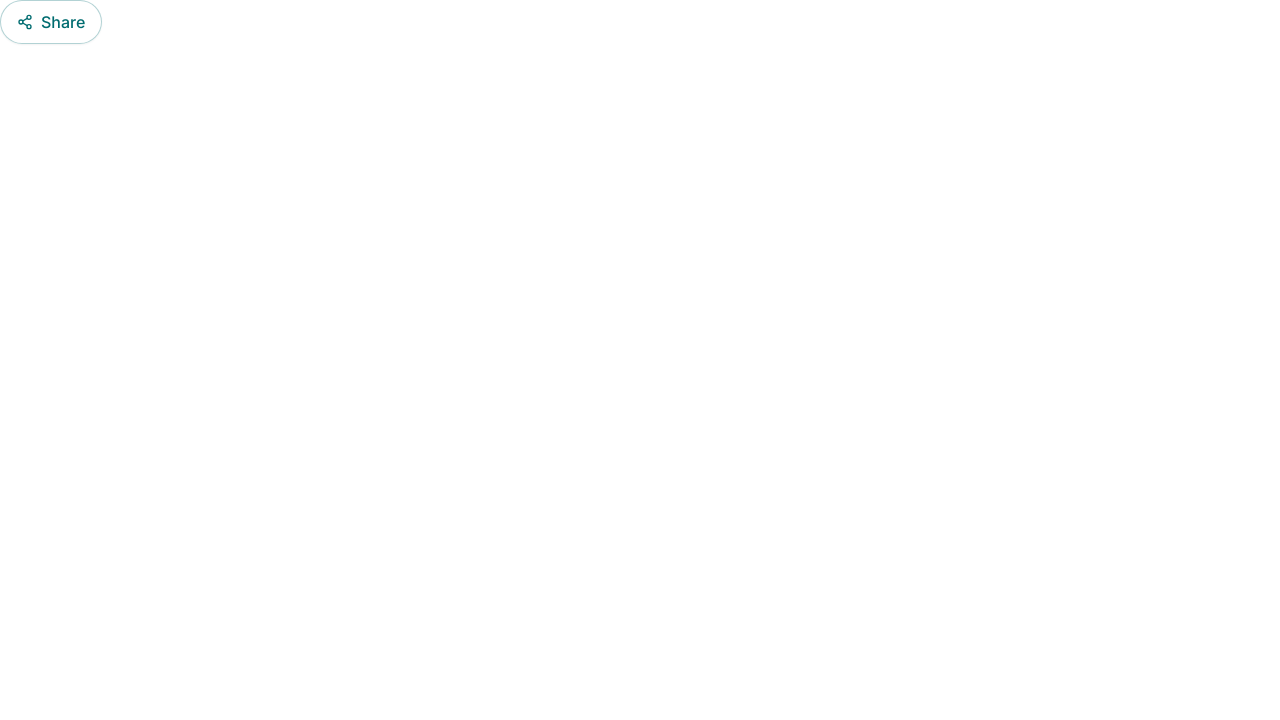
Test case: PageShareButton › copies the current URL to the clipboard
This screenshot has width=1280, height=720.
Click the button with aria-label "share page" at (51, 22), box [0,0,102,44]
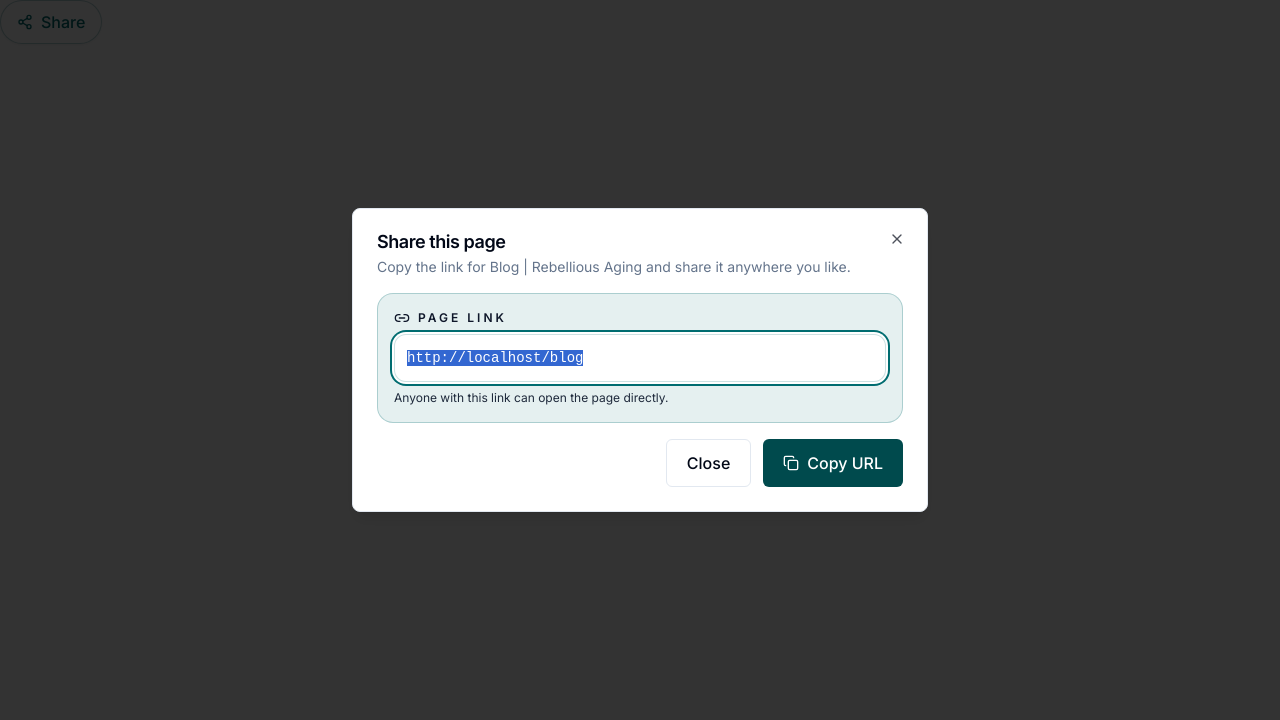
Click the button "Copy URL" at (833, 463), box [763,439,903,487]
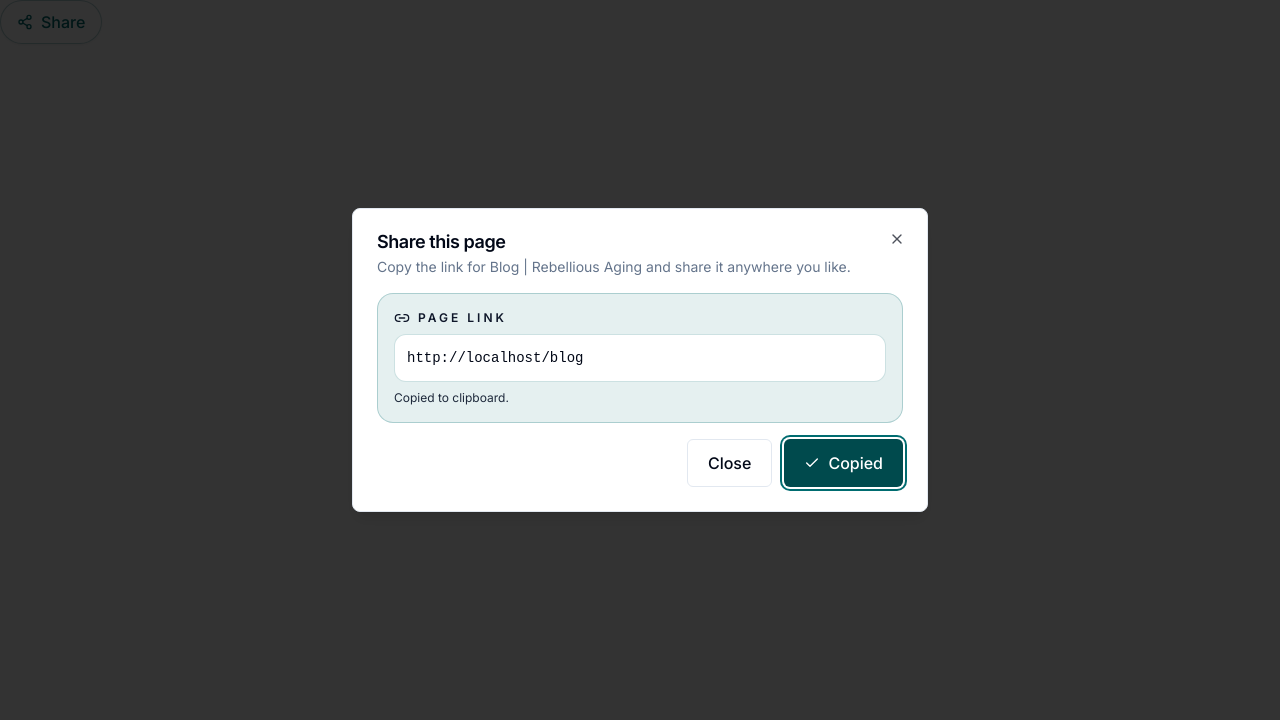
Check: the text "Copied to clipboard." is shown, box [394,390,509,405]
